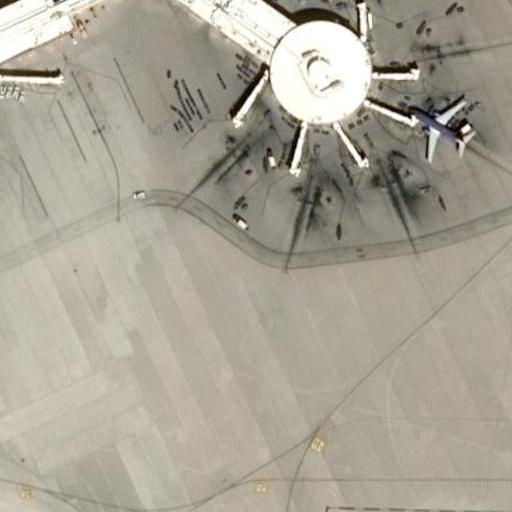Aircraft: (406, 93, 476, 162)
